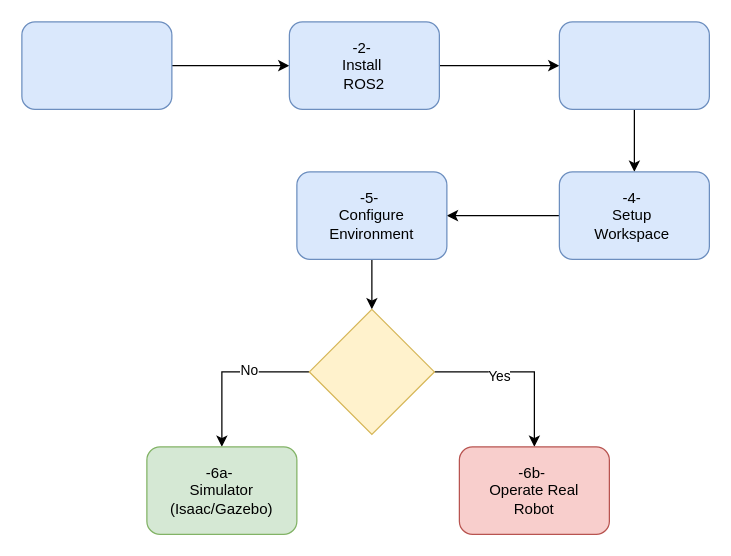
Some shapes in this 731 by 556 pixel diagram are drawn without their labels. The shapes that lost their labels are listed below. From the top down, each one's box as (x1, y1, x2, y2) in pixels, then its label:
(21, 21, 172, 109): -1- Verify System Requirements
(558, 21, 709, 109): -3- Install Additional Dependencies
(308, 308, 434, 434): Real Hardware?
